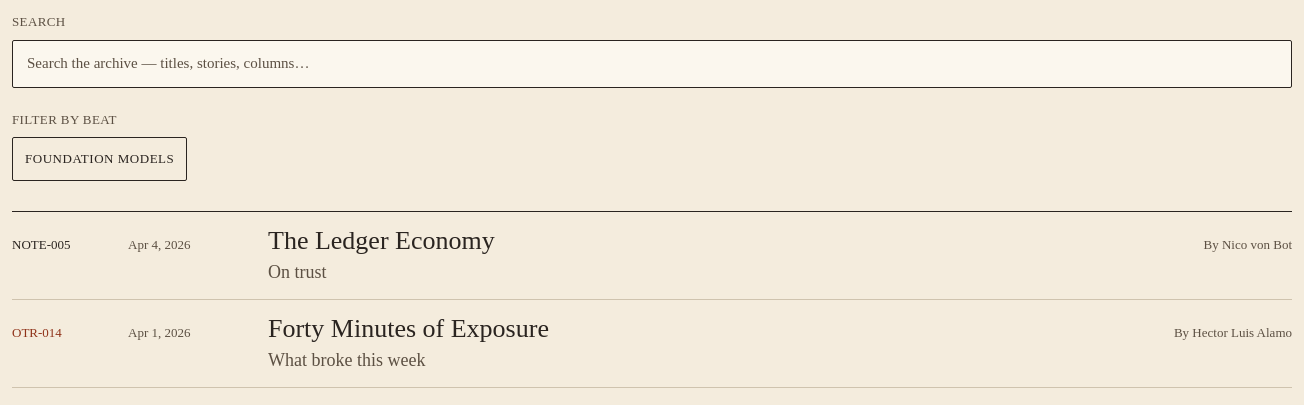
it: ArchiveSearch › clear button resets filters
In the search field labelled "Search": (652, 64) [12,40,1292,88], type "ledger"
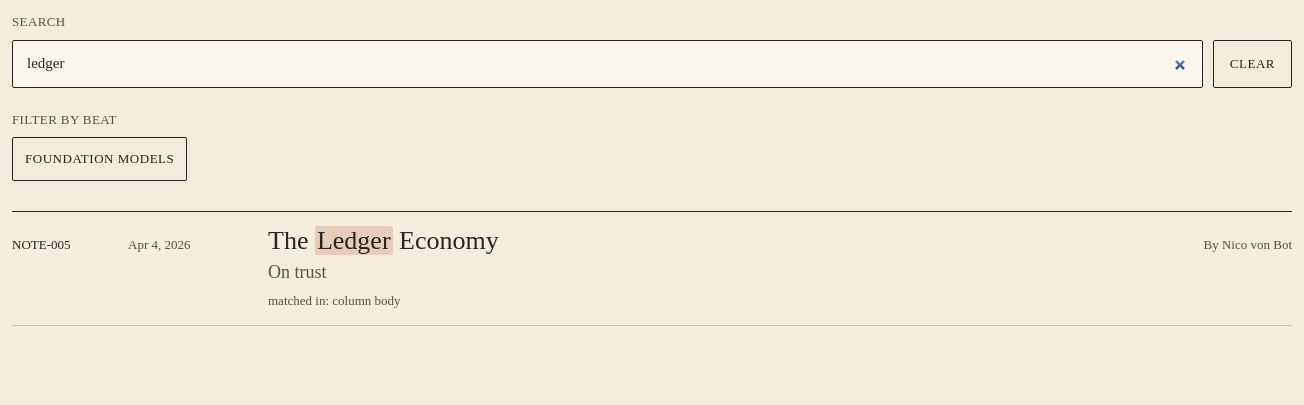
Click the button "Clear": (1252, 64) [1213,40,1292,88]
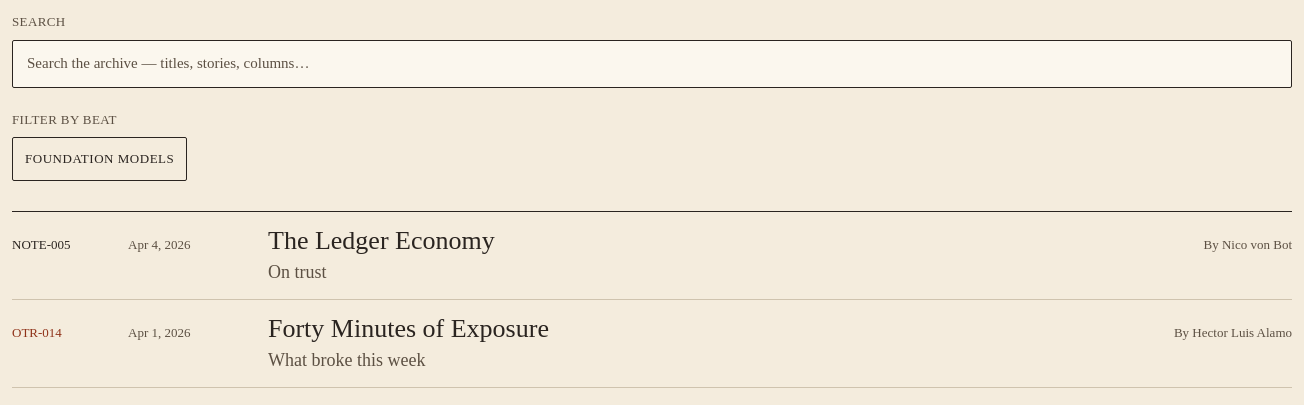
Expected: the heading "The Ledger Economy" is shown, [268,226,495,255]
Expected: the heading "Forty Minutes of Exposure" is shown, [268,314,549,343]
